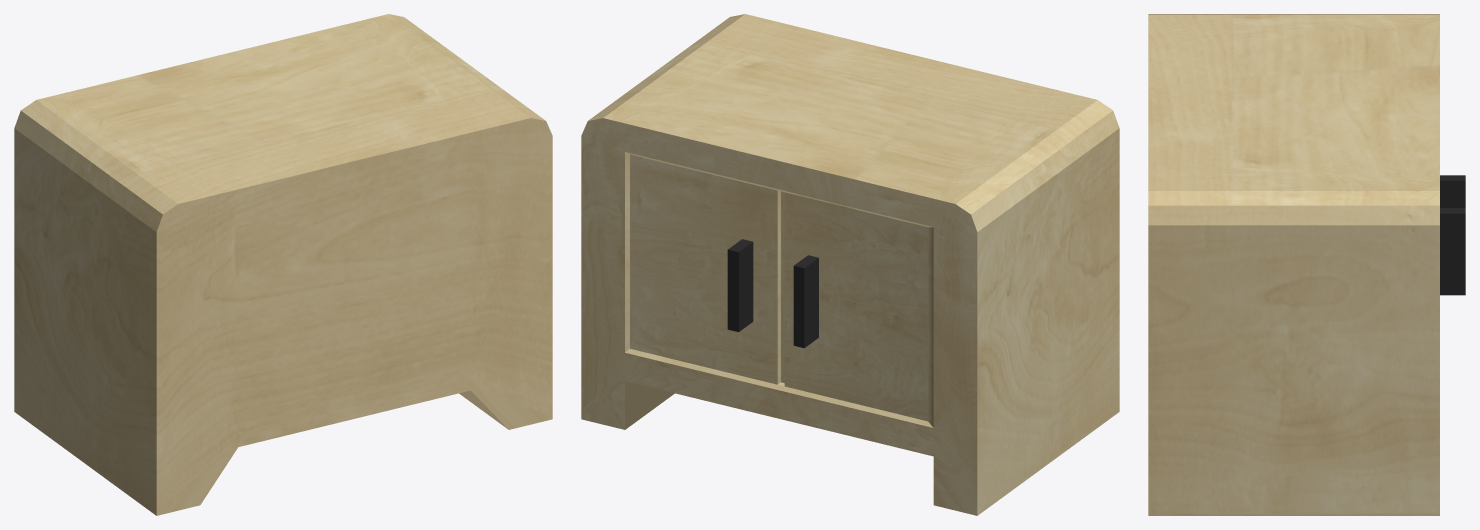
The model's file is drawers.fbx.
3 views of the same model, side by side, from view 1: azimuth 30°, elevation 25°; view 2: azimuth 150°, elevation 25°; view 3: azimuth 270°, elevation 25° (orthographic). The views are drawn at different scales.
Visible parts, largest first — view 1: pCube6; view 2: pCube6; view 3: pCube6.
Part boxes in pixels (bbox=[...]): pCube6: bbox=[14, 14, 552, 515]; pCube6: bbox=[581, 14, 1119, 515]; pCube6: bbox=[1148, 14, 1465, 515].
Size of the model in its own units: 22.81 by 16.88 by 15.44.
